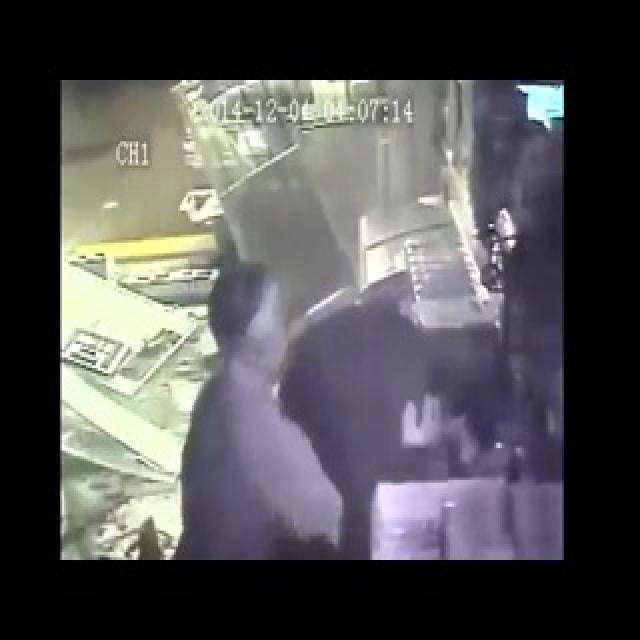thief: (203, 255, 300, 406)
